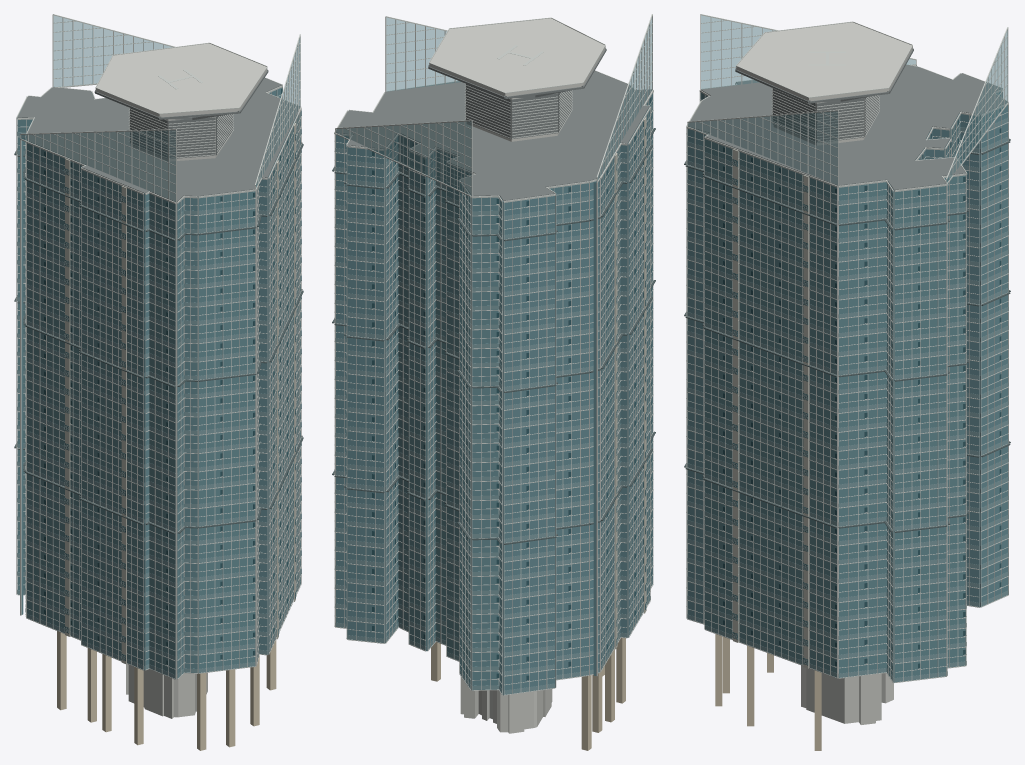
File: bespoke-mecenatpolis-103.glb
The picture shows the model from 3 angles, left to right: view 1: azimuth 30°, elevation 25°; view 2: azimuth 150°, elevation 25°; view 3: azimuth 270°, elevation 25°; orthographic projection. The views are drawn at different scales.
Visible parts, largest first — view 1: 103_actual_glass_service_stacks001, 103_actual_glass_service_stacks001_2, 103_actual_glass_service_stacks001_1, 103_three_oblique_glass_screens_and_hex_roof001_3, 103_three_oblique_glass_screens_and_hex_roof001_1, 103_three_oblique_glass_screens_and_hex_roof001_2, 103_three_oblique_glass_screens_and_hex_roof001, 103_actual_glass_service_stacks001_4, 103_entry_columns, 103_actual_glass_service_stacks001_3, 103_actual_glass_service_stacks001_5, 103_traced_angular_floorplate001_1 (+1 smaller); view 2: 103_actual_glass_service_stacks001, 103_actual_glass_service_stacks001_2, 103_actual_glass_service_stacks001_1, 103_three_oblique_glass_screens_and_hex_roof001_3, 103_three_oblique_glass_screens_and_hex_roof001_1, 103_three_oblique_glass_screens_and_hex_roof001_2, 103_three_oblique_glass_screens_and_hex_roof001, 103_actual_glass_service_stacks001_3, 103_entry_columns, 103_actual_glass_service_stacks001_5, 103_traced_angular_floorplate001_1, 103_actual_glass_service_stacks001_4 (+1 smaller); view 3: 103_actual_glass_service_stacks001, 103_actual_glass_service_stacks001_2, 103_actual_glass_service_stacks001_1, 103_three_oblique_glass_screens_and_hex_roof001_3, 103_three_oblique_glass_screens_and_hex_roof001_1, 103_three_oblique_glass_screens_and_hex_roof001_2, 103_three_oblique_glass_screens_and_hex_roof001, 103_actual_glass_service_stacks001_3, 103_actual_glass_service_stacks001_4, 103_traced_angular_floorplate001_1, 103_actual_glass_service_stacks001_5, 103_entry_columns (+1 smaller).
Part boxes in pixels (x1=…): 103_actual_glass_service_stacks001: x1=17, y1=87, x2=300, y2=678; 103_actual_glass_service_stacks001_2: x1=16, y1=87, x2=301, y2=679; 103_actual_glass_service_stacks001_1: x1=17, y1=122, x2=300, y2=678; 103_three_oblique_glass_screens_and_hex_roof001_3: x1=17, y1=69, x2=300, y2=202; 103_three_oblique_glass_screens_and_hex_roof001_1: x1=21, y1=15, x2=300, y2=201; 103_three_oblique_glass_screens_and_hex_roof001_2: x1=95, y1=43, x2=267, y2=161; 103_three_oblique_glass_screens_and_hex_roof001: x1=16, y1=14, x2=301, y2=203; 103_actual_glass_service_stacks001_4: x1=65, y1=123, x2=295, y2=664; 103_entry_columns: x1=57, y1=631, x2=276, y2=750; 103_actual_glass_service_stacks001_3: x1=44, y1=88, x2=301, y2=665; 103_actual_glass_service_stacks001_5: x1=14, y1=142, x2=303, y2=533; 103_traced_angular_floorplate001_1: x1=126, y1=664, x2=207, y2=718; 103_actual_glass_service_stacks001: x1=336, y1=93, x2=652, y2=695; 103_actual_glass_service_stacks001_2: x1=334, y1=92, x2=653, y2=695; 103_actual_glass_service_stacks001_1: x1=335, y1=105, x2=652, y2=694; 103_three_oblique_glass_screens_and_hex_roof001_3: x1=336, y1=48, x2=651, y2=200; 103_three_oblique_glass_screens_and_hex_roof001_1: x1=336, y1=17, x2=652, y2=195; 103_three_oblique_glass_screens_and_hex_roof001_2: x1=429, y1=18, x2=605, y2=141; 103_three_oblique_glass_screens_and_hex_roof001: x1=334, y1=14, x2=653, y2=202; 103_actual_glass_service_stacks001_3: x1=346, y1=97, x2=651, y2=680; 103_entry_columns: x1=431, y1=637, x2=625, y2=750; 103_actual_glass_service_stacks001_5: x1=332, y1=128, x2=655, y2=544; 103_traced_angular_floorplate001_1: x1=460, y1=676, x2=552, y2=733; 103_actual_glass_service_stacks001_4: x1=615, y1=117, x2=646, y2=649; 103_actual_glass_service_stacks001: x1=687, y1=65, x2=1007, y2=682; 103_actual_glass_service_stacks001_2: x1=686, y1=64, x2=1008, y2=682; 103_actual_glass_service_stacks001_1: x1=687, y1=118, x2=1008, y2=681; 103_three_oblique_glass_screens_and_hex_roof001_3: x1=688, y1=48, x2=1007, y2=190; 103_three_oblique_glass_screens_and_hex_roof001_1: x1=688, y1=15, x2=1007, y2=184; 103_three_oblique_glass_screens_and_hex_roof001_2: x1=736, y1=22, x2=912, y2=145; 103_three_oblique_glass_screens_and_hex_roof001: x1=686, y1=14, x2=1008, y2=191; 103_actual_glass_service_stacks001_3: x1=723, y1=109, x2=1001, y2=670; 103_actual_glass_service_stacks001_4: x1=733, y1=149, x2=808, y2=668; 103_traced_angular_floorplate001_1: x1=801, y1=665, x2=893, y2=724; 103_actual_glass_service_stacks001_5: x1=684, y1=138, x2=1010, y2=532; 103_entry_columns: x1=715, y1=634, x2=821, y2=750.
Bounding box in the file's own units: 44.53 × 107 × 48.01.
